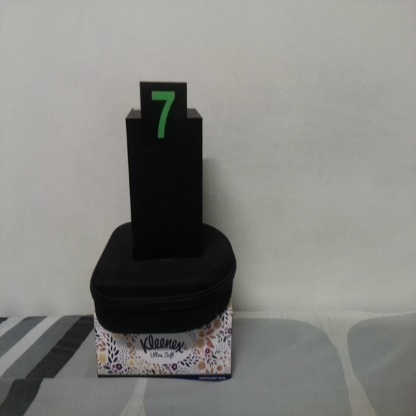id_7: (139, 83, 188, 158)
